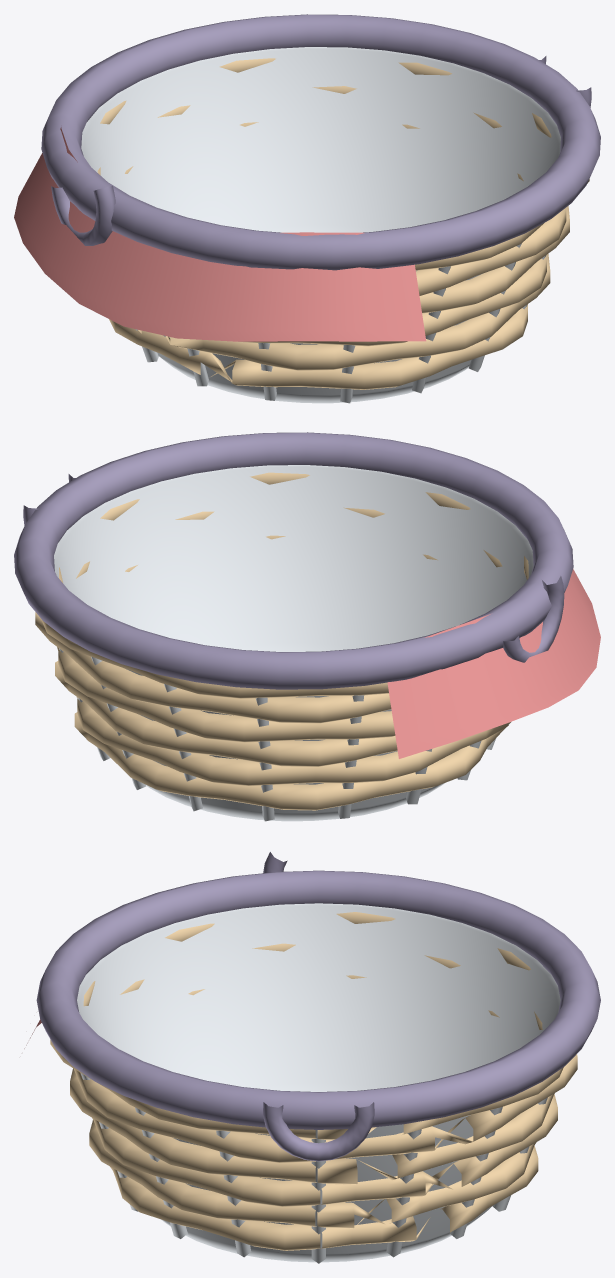
File: HoneyBasket.glb
The picture shows the model from 3 angles, top to bottom: view 1: azimuth 30°, elevation 25°; view 2: azimuth 150°, elevation 25°; view 3: azimuth 270°, elevation 25°; orthographic projection.
Parts seen in each view (by area): view 1: Basket, Rim, Cloth, Weave; view 2: Basket, Rim, Weave, Cloth; view 3: Basket, Rim, Weave.
Boxes of the visible parts, <box> form: Basket: <box>81,47,560,403</box>; Rim: <box>41,14,600,270</box>; Cloth: <box>14,127,426,341</box>; Weave: <box>97,58,589,389</box>; Basket: <box>54,465,533,821</box>; Rim: <box>14,432,573,689</box>; Weave: <box>35,472,528,810</box>; Cloth: <box>387,569,600,758</box>; Basket: <box>77,903,560,1263</box>; Rim: <box>36,852,600,1161</box>; Weave: <box>50,912,577,1250</box>.
Size of the model in its own units: 4.13 by 1.7 by 4.08.
